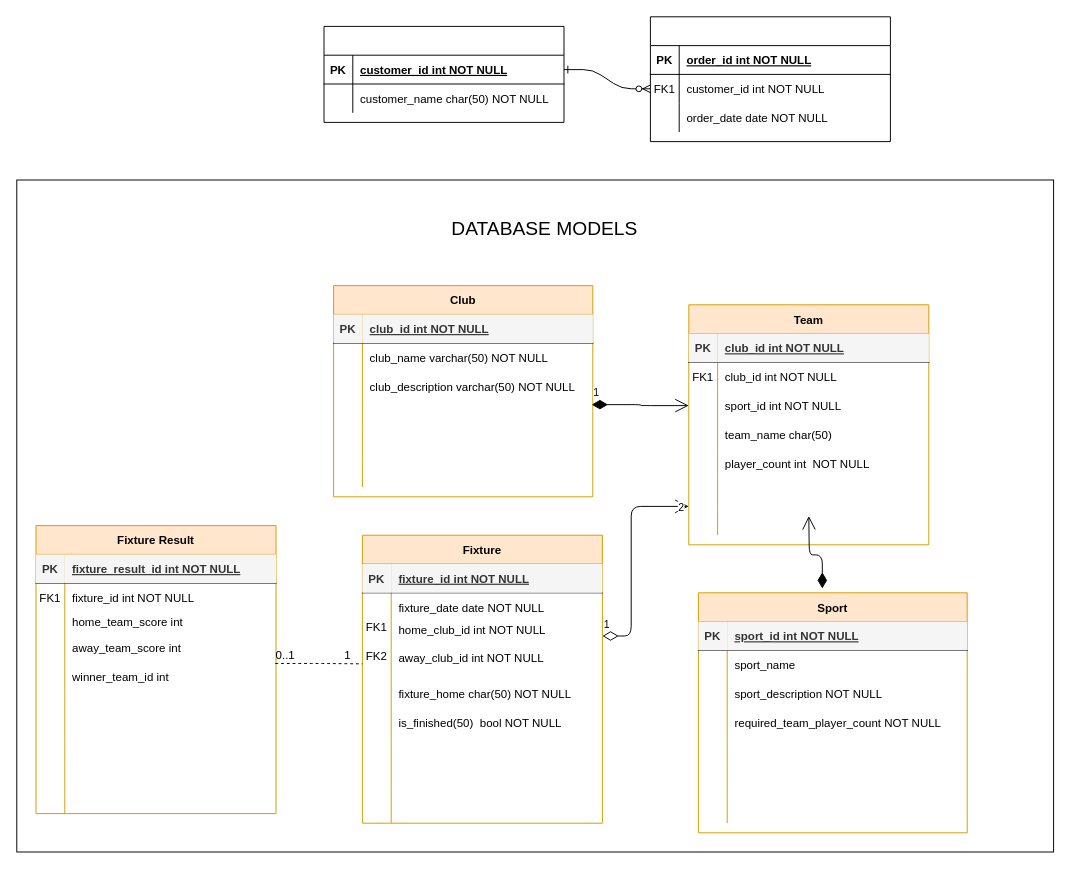
Image size: 1070x869. Some labels were removed from this diagram. The shapes that lost their labels are listed below. From the top down, each one's box as (x1, y1, x2, y2) in pixels, then its label:
(323, 25, 564, 122): Customers
(649, 16, 890, 142): Orders
